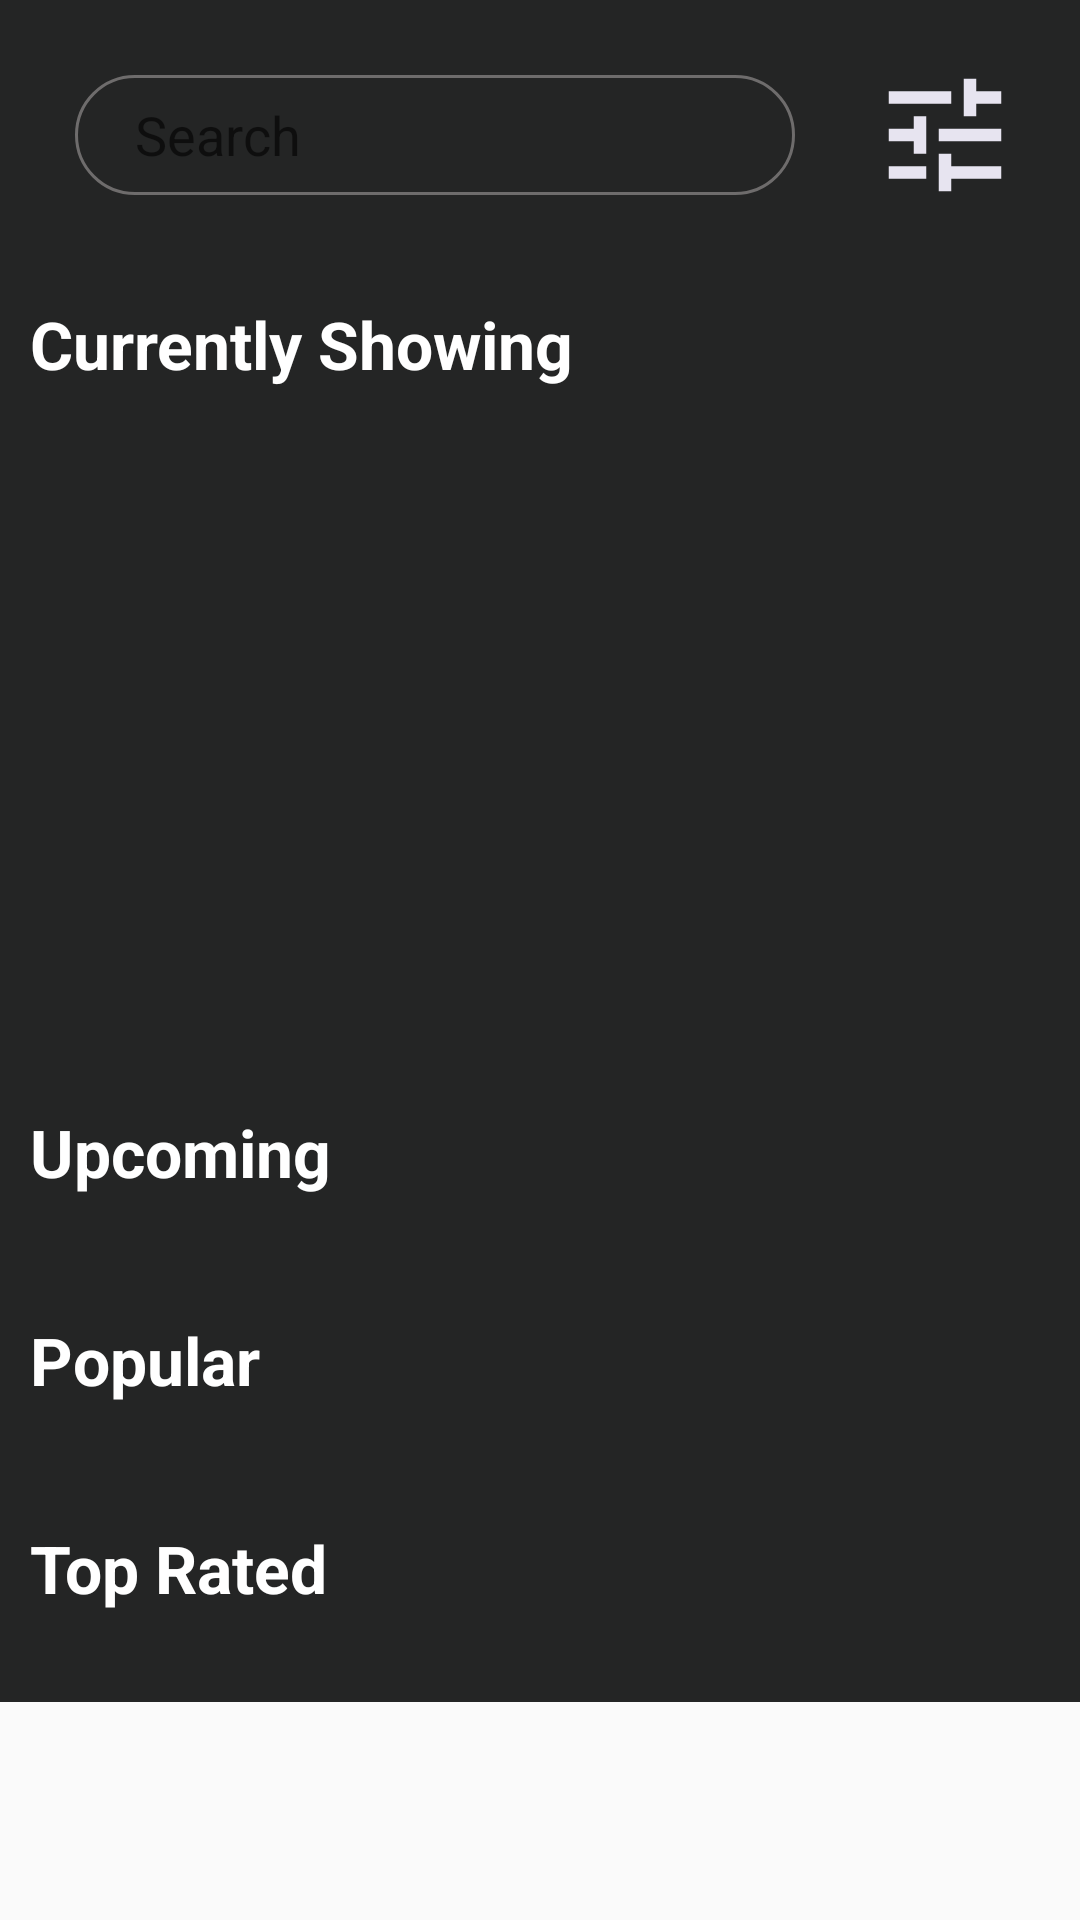

Icon bounding boxes for this 1080px x 1920px phone screenshot, format (x1, y1, x2, y2):
tune: (888, 78, 1002, 192)
